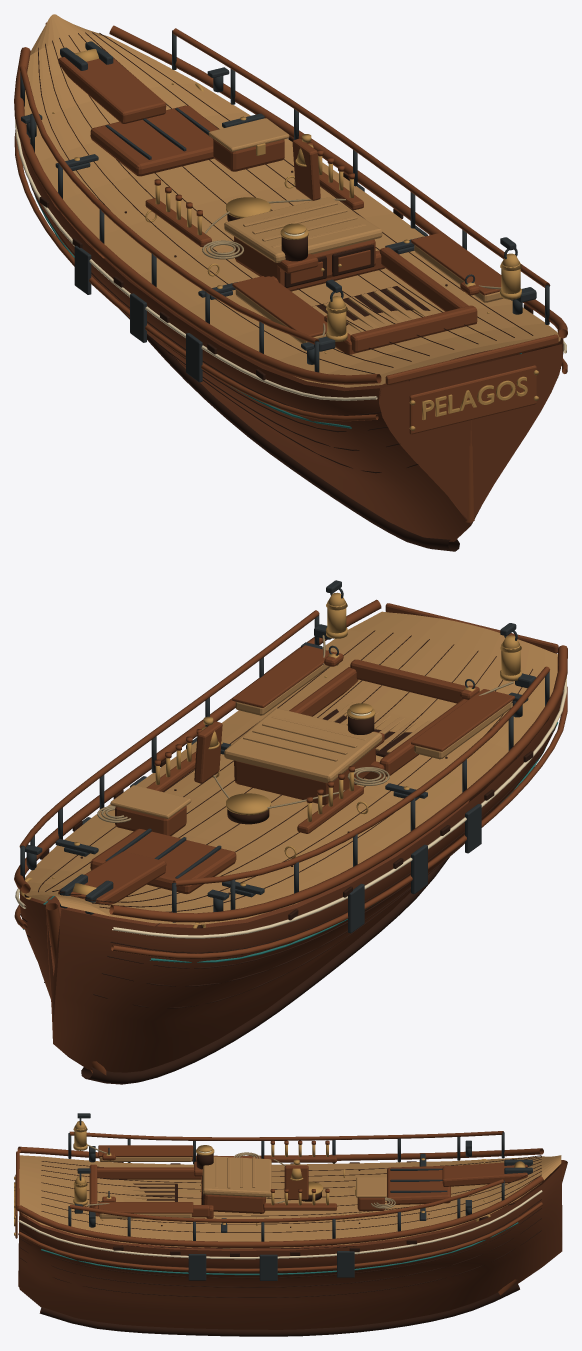
File: pelagos-cutter.glb
The picture shows the model from 3 angles, top to bottom: view 1: azimuth 30°, elevation 25°; view 2: azimuth 150°, elevation 25°; view 3: azimuth 270°, elevation 25°; orthographic projection. The views are drawn at different scales.
Parts seen in each view (by area): view 1: PW_Deck, PW_Hull, PW_Caprail_-1, PW_ForwardHatch, PW_CompanionwayTop, PW_TransomNameBoard, PW_Caprail_1, PW_BowspritBed, PW_KeelBackbone, PW_TransomClosure, PW_Handrail_1, PW_Handrail_-1 (+18 smaller); view 2: PW_Deck, PW_Hull, PW_CompanionwayTop, PW_Caprail_-1, PW_KeelBackbone, PW_ForwardHatch, PW_RubRail_-1, PW_Caprail_1, PW_Handrail_-1, PW_Companionway, PW_Handrail_1, PW_BowspritBed (+21 smaller); view 3: PW_Hull, PW_Deck, PW_Caprail_1, PW_KeelBackbone, PW_CompanionwayTop, PW_RubRail_1, PW_Handrail_1, PW_ForwardHatch, PW_Caprail_-1, PW_Handrail_-1, PW_BowspritBed, PW_IvorySheerStripe_1 (+24 smaller).
Part boxes in pixels (<box>): PW_Deck: <box>24,14,560,387</box>; PW_Hull: <box>20,141,563,541</box>; PW_Caprail_-1: <box>14,47,381,384</box>; PW_ForwardHatch: <box>90,105,218,176</box>; PW_CompanionwayTop: <box>224,197,382,262</box>; PW_TransomNameBoard: <box>409,365,536,434</box>; PW_Caprail_1: <box>109,25,567,338</box>; PW_BowspritBed: <box>58,48,166,123</box>; PW_KeelBackbone: <box>147,335,459,551</box>; PW_TransomClosure: <box>380,344,561,445</box>; PW_Handrail_1: <box>172,28,550,287</box>; PW_Handrail_-1: <box>19,65,319,344</box>; PW_Deck: <box>24,611,557,924</box>; PW_Hull: <box>20,691,563,1072</box>; PW_CompanionwayTop: <box>224,708,382,783</box>; PW_Caprail_-1: <box>109,645,567,922</box>; PW_KeelBackbone: <box>81,857,449,1084</box>; PW_ForwardHatch: <box>90,829,236,894</box>; PW_RubRail_-1: <box>111,686,567,958</box>; PW_Caprail_1: <box>14,599,381,893</box>; PW_Handrail_-1: <box>172,666,549,886</box>; PW_Companionway: <box>234,748,375,805</box>; PW_Handrail_1: <box>19,610,319,847</box>; PW_BowspritBed: <box>58,851,166,904</box>; PW_Hull: <box>19,1166,562,1329</box>; PW_Deck: <box>19,1155,561,1248</box>; PW_Caprail_1: <box>17,1176,543,1247</box>; PW_KeelBackbone: <box>39,1283,519,1336</box>; PW_CompanionwayTop: <box>202,1156,271,1197</box>; PW_RubRail_1: <box>18,1202,542,1272</box>; PW_Handrail_1: <box>69,1179,503,1222</box>; PW_ForwardHatch: <box>387,1165,450,1204</box>; PW_Caprail_-1: <box>17,1146,543,1161</box>; PW_Handrail_-1: <box>69,1131,503,1140</box>; PW_BowspritBed: <box>442,1162,527,1186</box>; PW_IvorySheerStripe_1: <box>18,1190,542,1259</box>.
Bounding box in the file's own units: 3.6 × 3.63 × 9.33.
